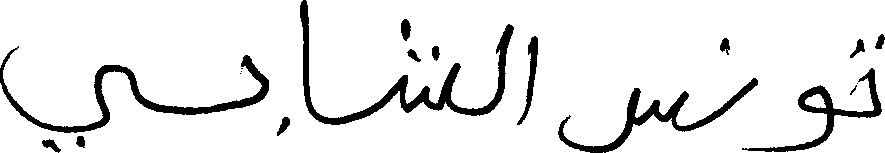ا: (518, 34, 539, 125), (298, 0, 312, 118)
ت: (846, 32, 883, 118)
س: (557, 85, 690, 151)
ش: (399, 17, 460, 115)
ظ: (241, 53, 294, 132)
ل: (493, 22, 513, 110)
ن: (719, 36, 758, 119)
و: (797, 83, 834, 150)
ي: (0, 44, 130, 151)
